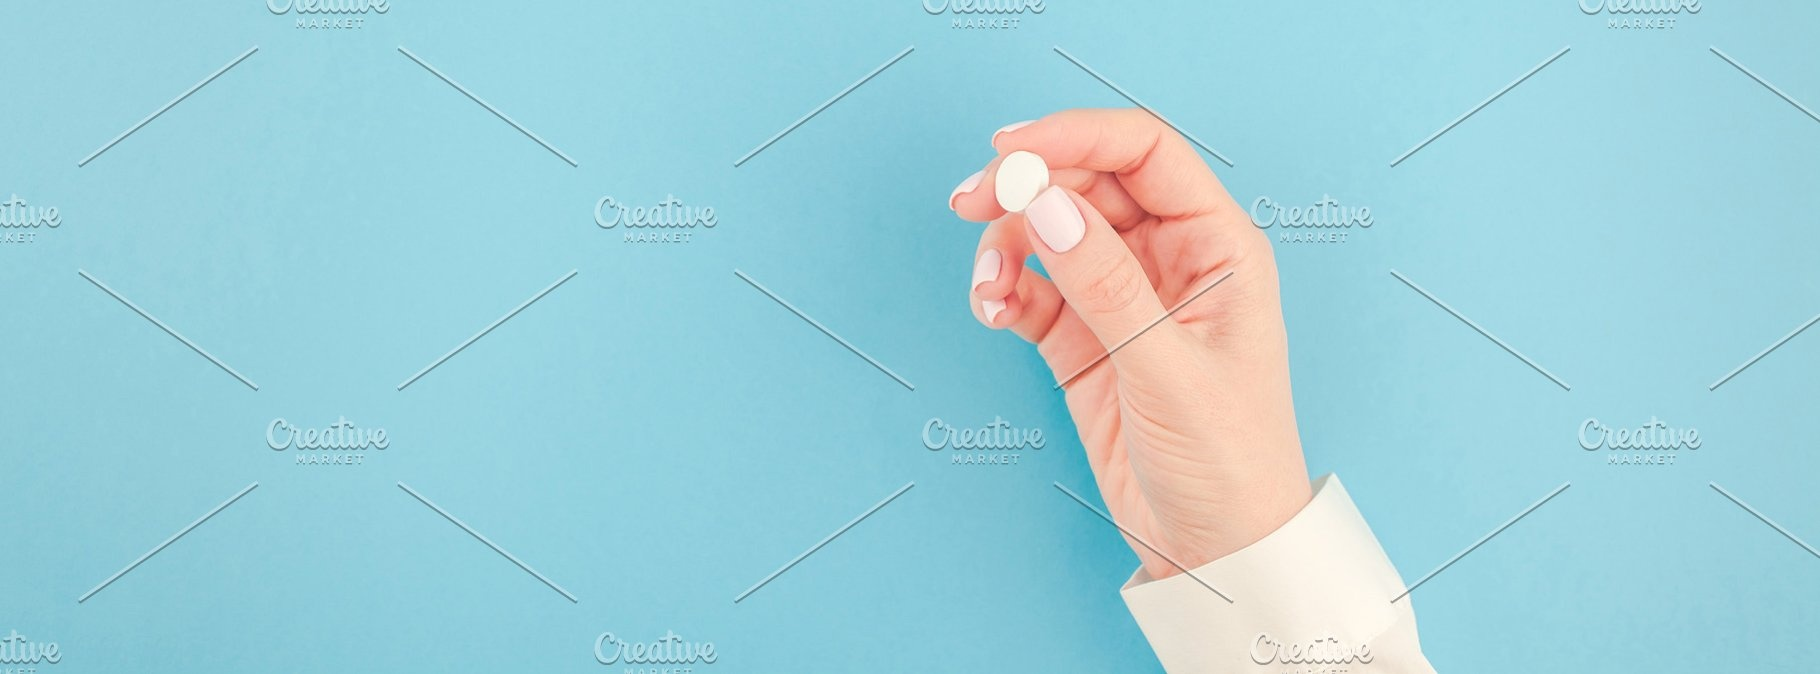pills: (995, 140, 1059, 234)
